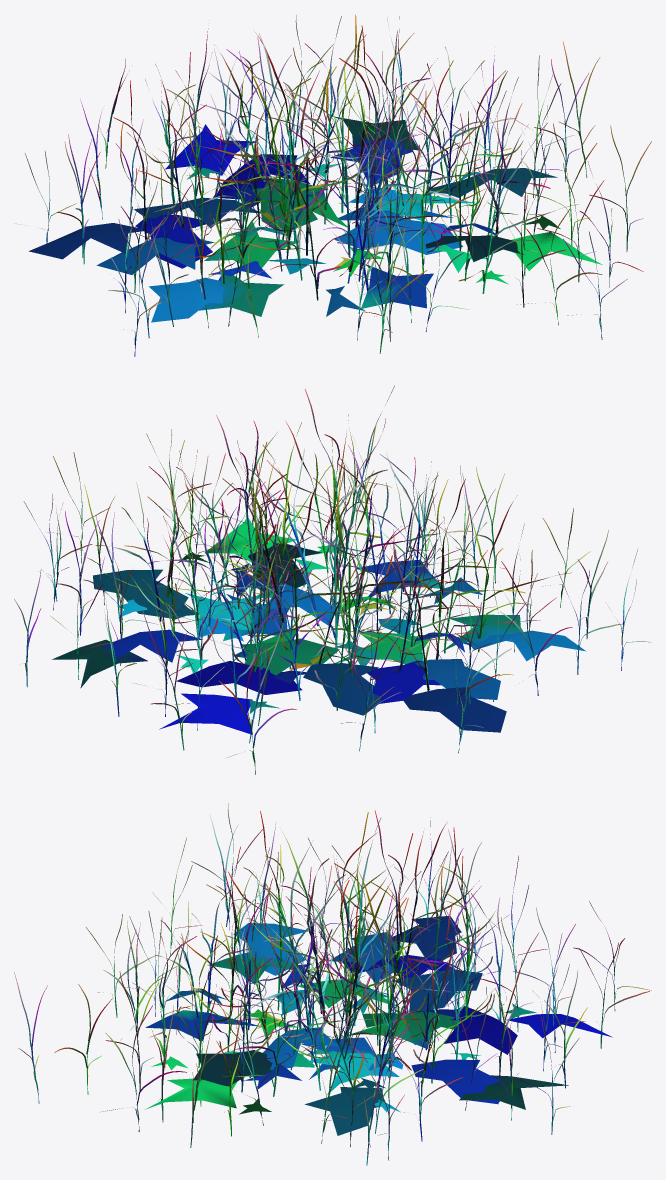
File: Kikuyu_Grass_wiljearqx_High_wiljearqx_VarC_LOD0.fbx
3 renders of one model, top to bottom at view 1: azimuth 30°, elevation 25°; view 2: azimuth 150°, elevation 25°; view 3: azimuth 270°, elevation 25°, orthographic. The views are drawn at different scales.
Visible parts, largest first — view 1: _afz6_VarC_LOD0; view 2: _afz6_VarC_LOD0; view 3: _afz6_VarC_LOD0.
Part boxes in pixels (x1,y1,x2,y2): _afz6_VarC_LOD0: [14, 14, 651, 356]; _afz6_VarC_LOD0: [14, 385, 651, 774]; _afz6_VarC_LOD0: [14, 803, 651, 1165].
Bounding box in the file's own units: 115 × 42.72 × 118.
